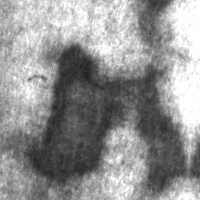patches: (26, 37, 127, 182), (122, 59, 195, 194), (133, 0, 181, 49)
